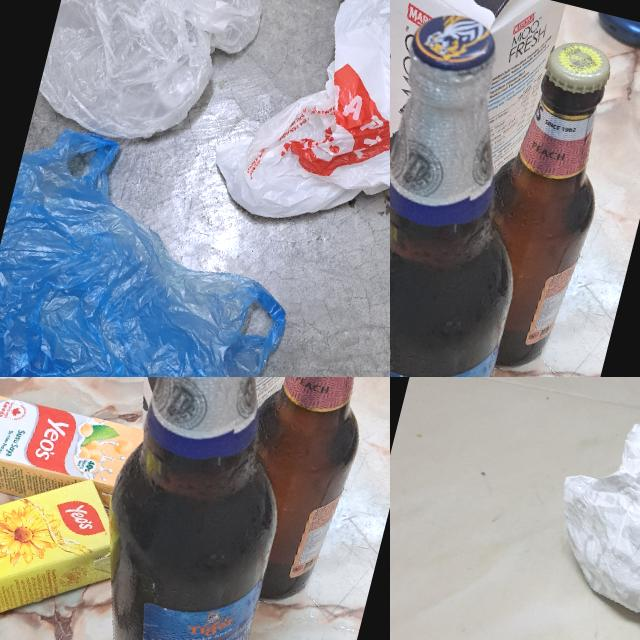caixinha: (390, 0, 563, 204), (0, 435, 131, 640), (0, 382, 143, 522), (103, 377, 327, 437)
garrafa de vidro: (63, 377, 339, 640), (390, 1, 575, 377), (446, 27, 634, 377), (210, 377, 390, 614)
lata: (390, 0, 418, 135)
sacola plástica: (0, 114, 318, 377), (197, 0, 390, 275), (31, 0, 297, 166), (525, 377, 640, 640)
